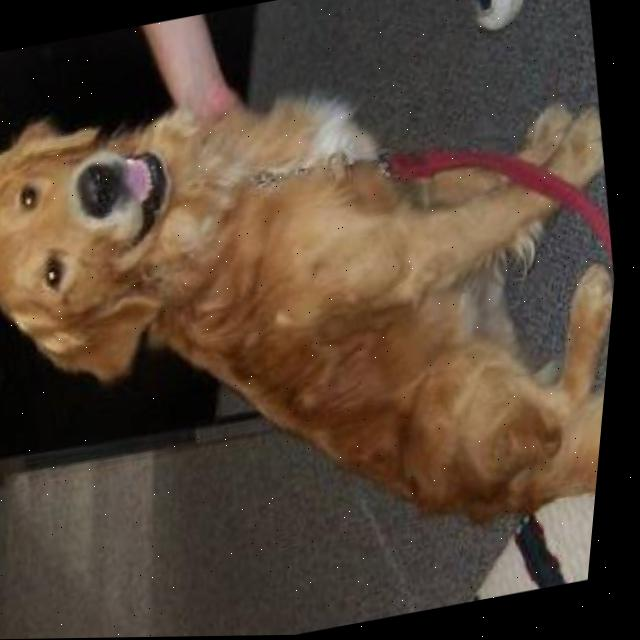dogs: (0, 15, 638, 640)
